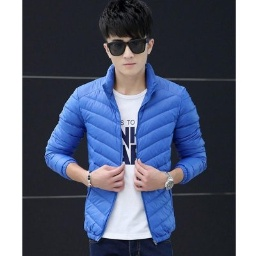face: (97, 1, 157, 77)
